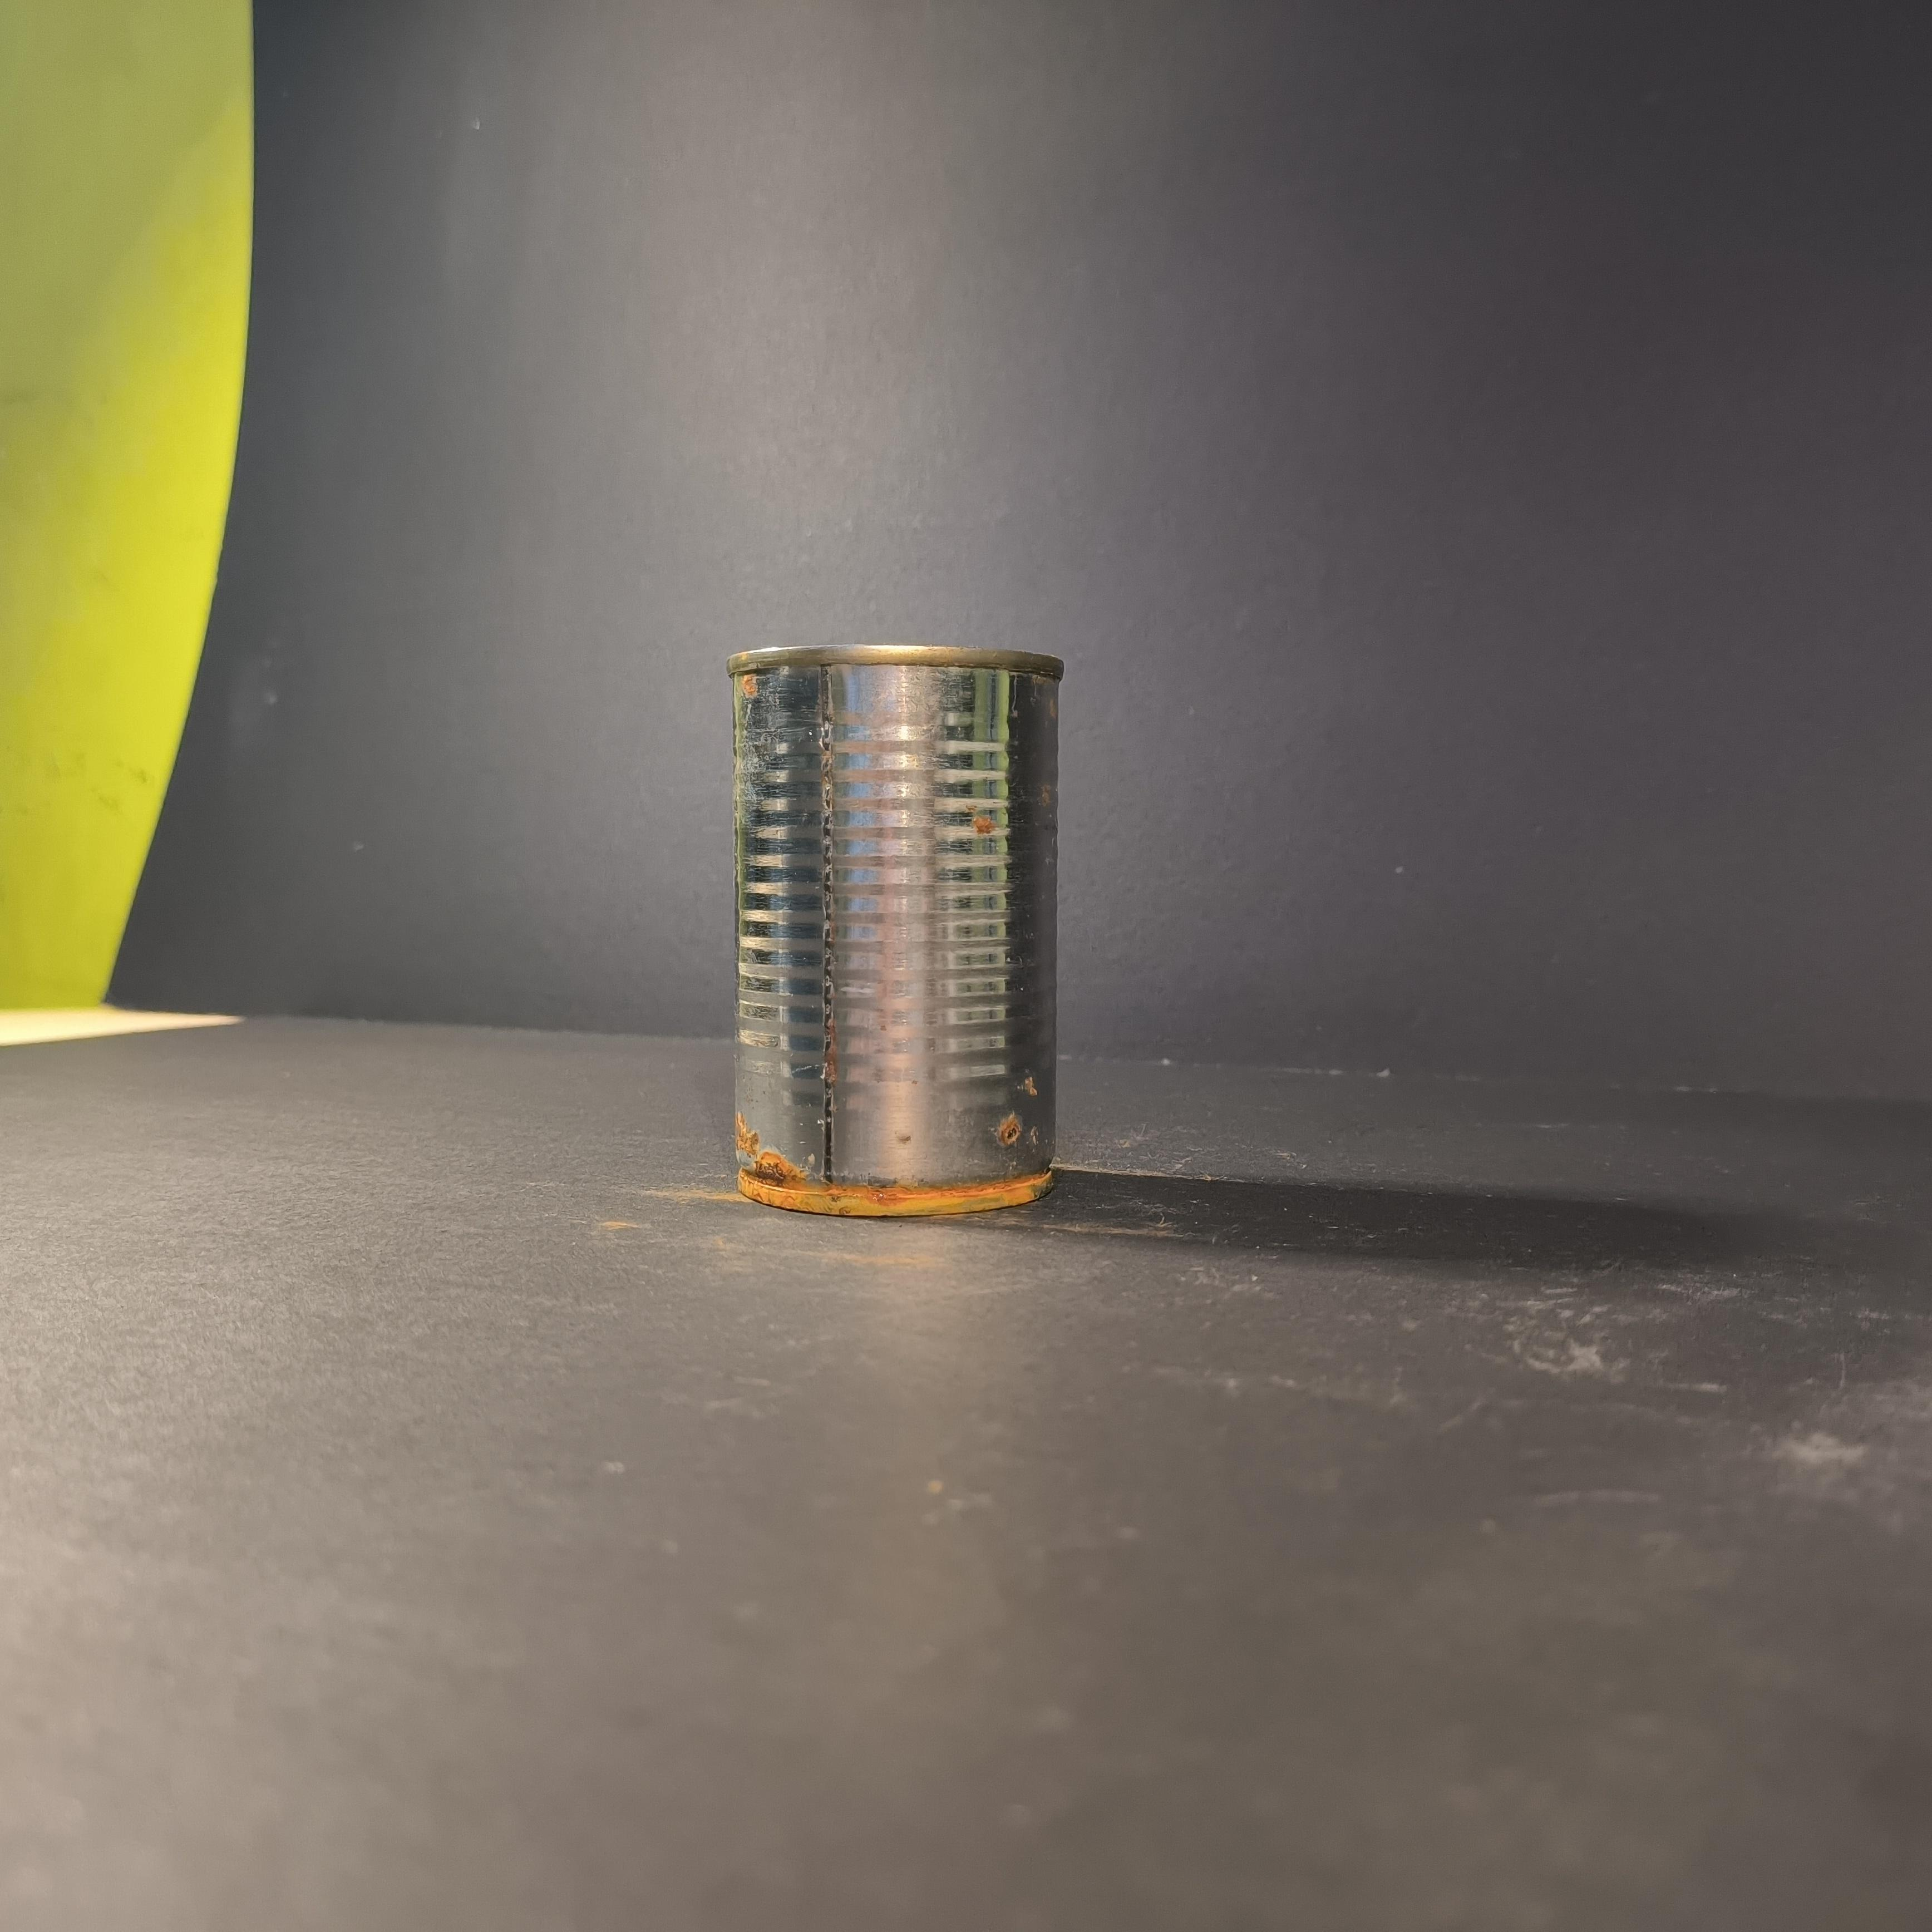Rusted: (706, 609, 1090, 1253)
